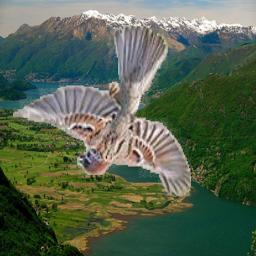Sparrow: (13, 25, 191, 197)
